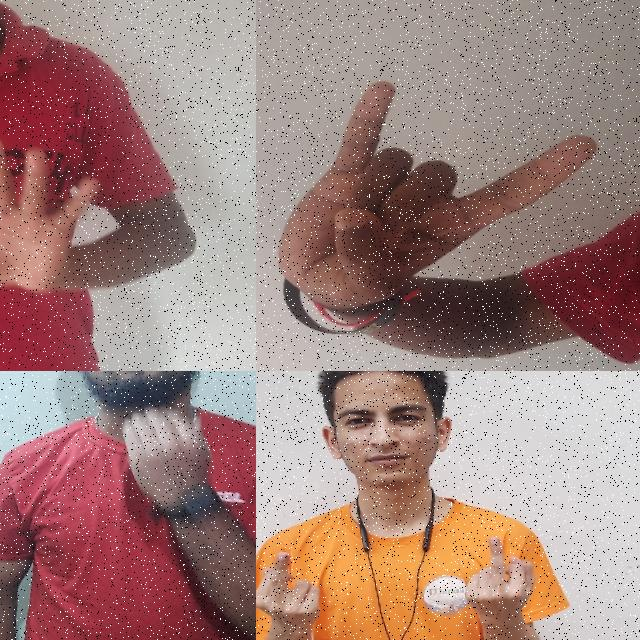Chin Flick: (53, 371, 229, 513)
Corna: (258, 62, 616, 342)
Middle Finger: (448, 521, 545, 640), (256, 538, 328, 640)
Moutza: (0, 122, 120, 316)
